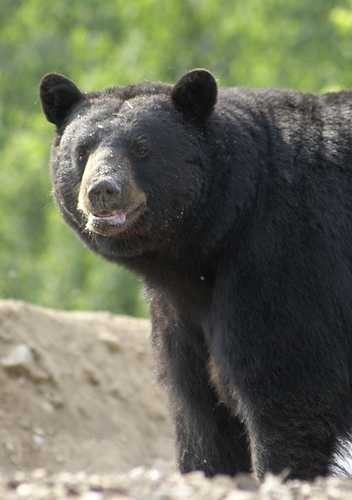bear: (52, 124, 180, 253), (129, 35, 257, 164), (5, 34, 133, 163)
